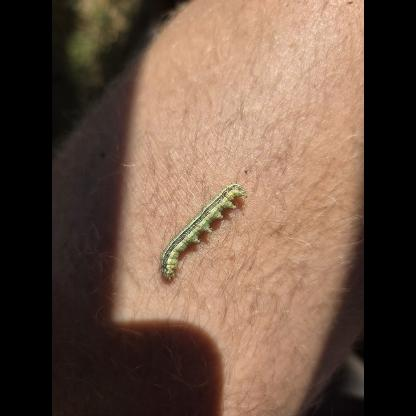Fall Armyworm Larvae: (157, 178, 249, 284)
